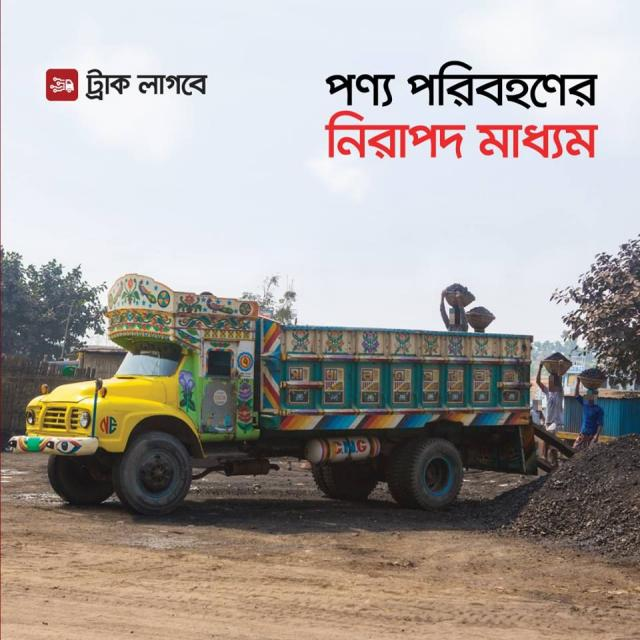truck: (5, 253, 543, 554)
